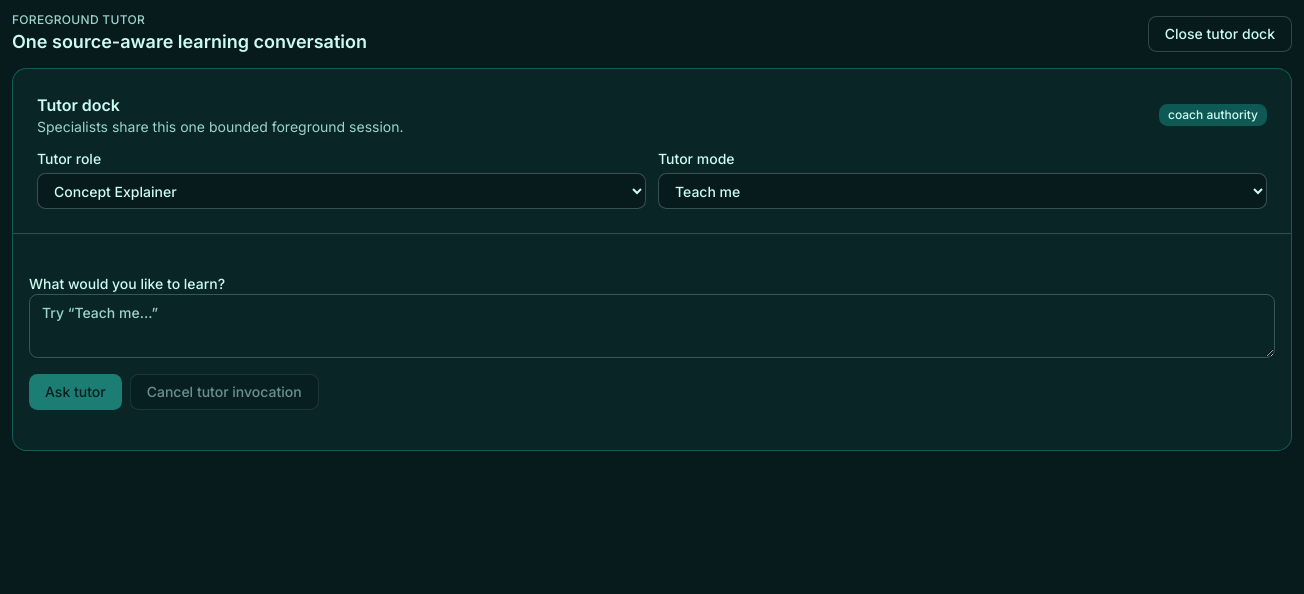
Scenario: TutorDock › changes role and mode together using a compatible default mode policy
Select "Curriculum Architect" in the dropdown labelled "Tutor role" at (342, 191), box [37, 173, 646, 209]
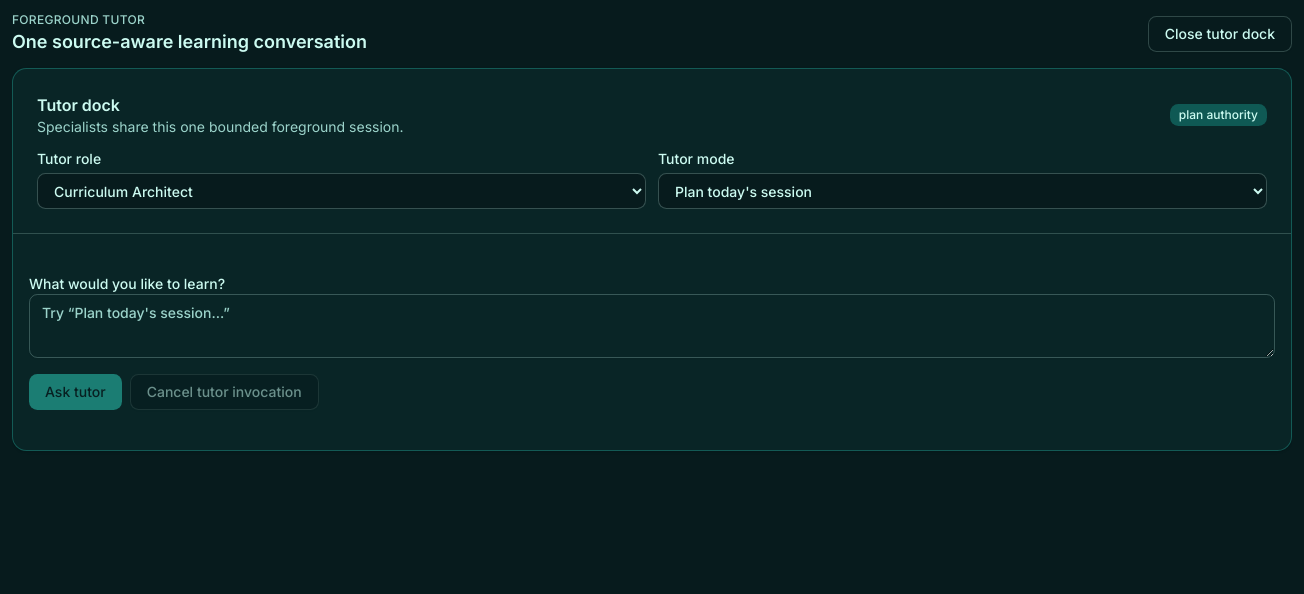
expect the dropdown labelled "Tutor mode" shows "Plan today's session": met, box [658, 173, 1267, 209]
Select "Research Scout" in the dropdown labelled "Tutor role" at (342, 191), box [37, 173, 646, 209]
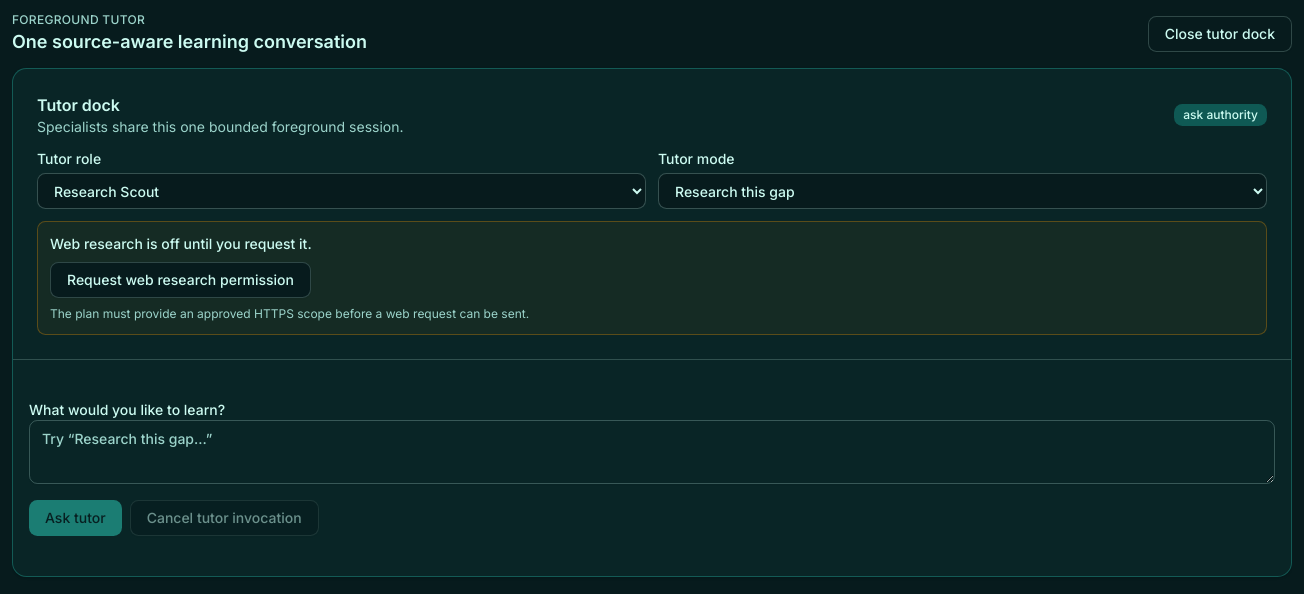
expect the dropdown labelled "Tutor mode" shows "Research this gap": met, box [658, 173, 1267, 209]
